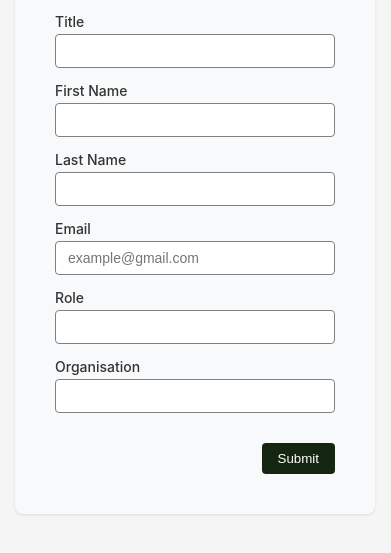
Test: StakeholerForm › displays an error when email taken
Type "alice@example.com" into the field labelled "Email".
click(195, 258); type("alice@example.com")  # box [55,241,335,275]
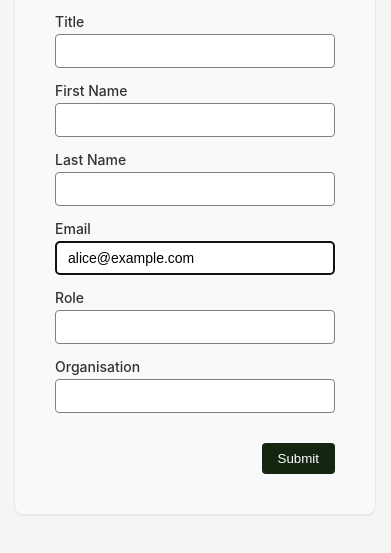
# Use tab to trigger blur event
Press Tab
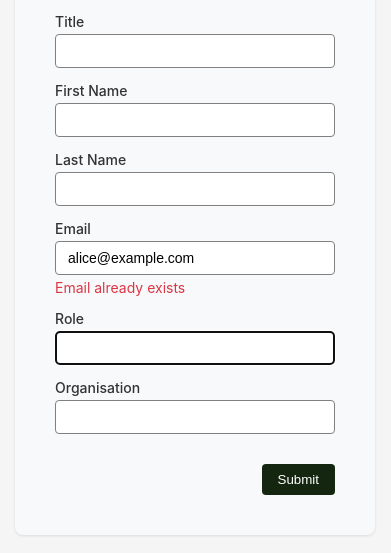
Expected: the text "Email already exists" is shown, [55,279,185,296]
